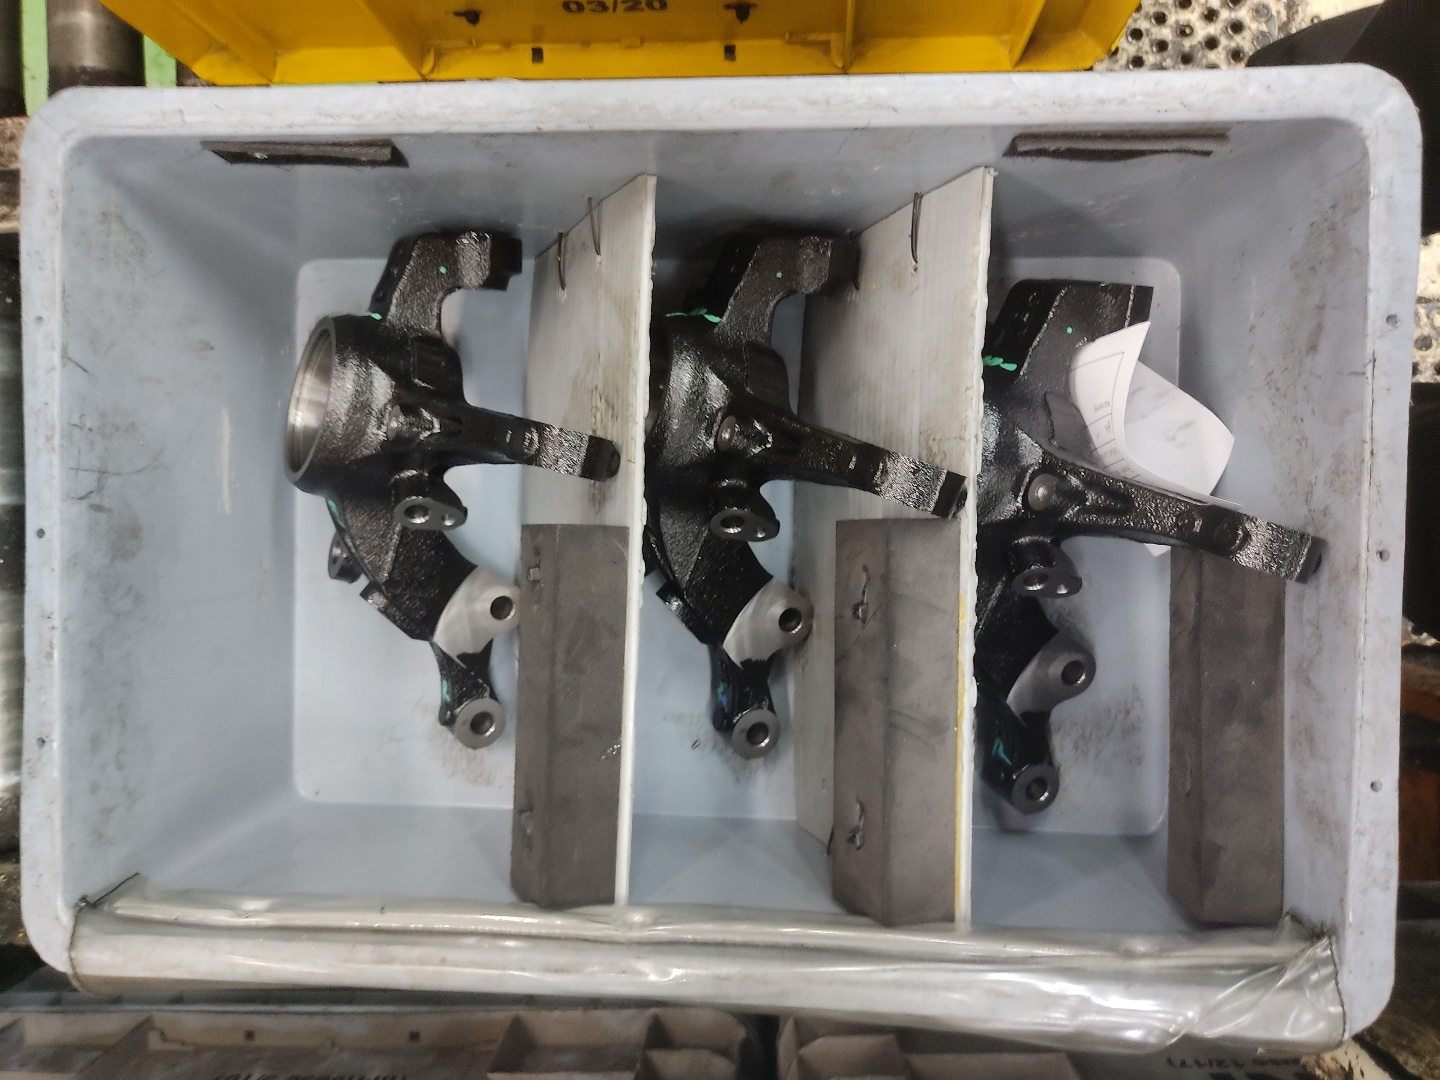abs-rh: (979, 261, 1342, 825), (276, 214, 625, 761), (635, 217, 975, 763)
